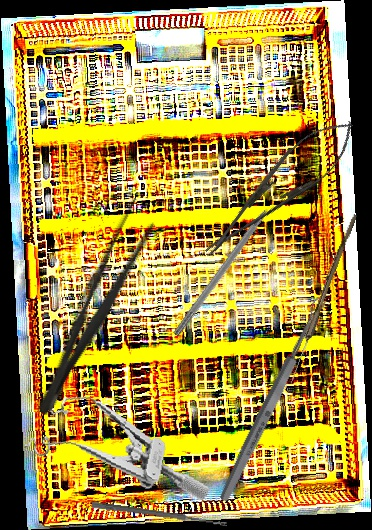Dressing Forceps: (25, 194, 163, 422)
Hook Surgical: (172, 189, 284, 339)
Needle Holder: (191, 106, 367, 270)
Speculum: (18, 384, 224, 502)
Surgical Spoon: (216, 295, 329, 504), (287, 212, 358, 386), (91, 501, 228, 528)
